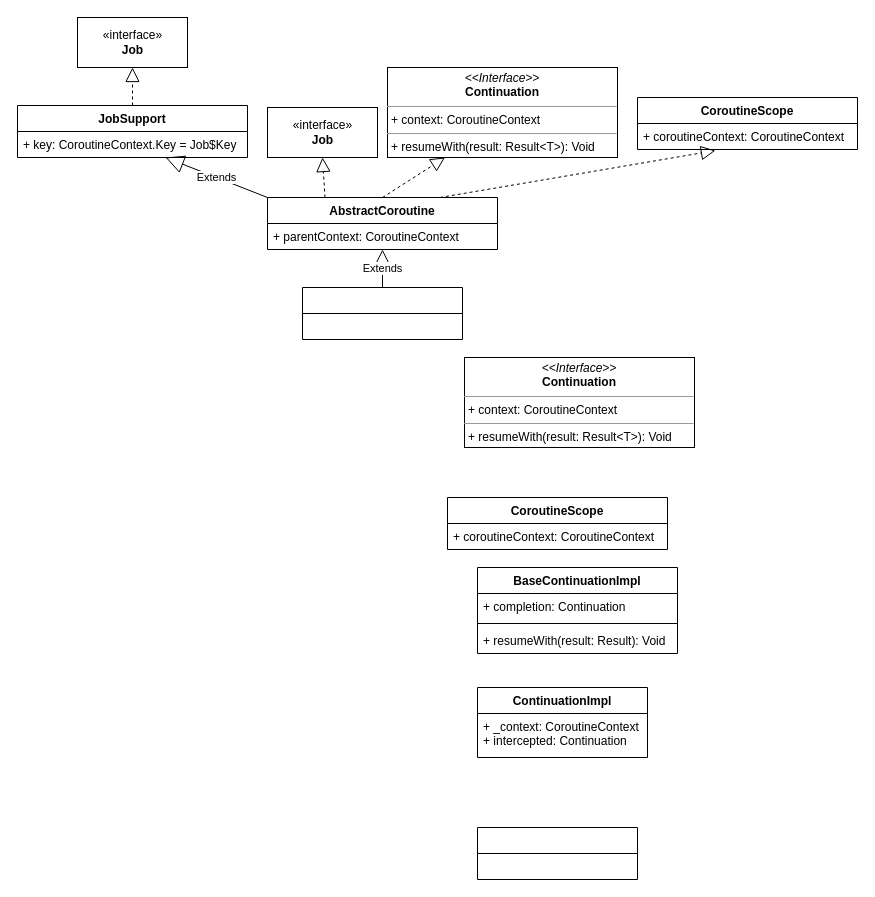
Some shapes in this 875 by 897 pixel diagram are drawn without their labels. The shapes that lost their labels are listed below. From the top down, each one's centre as x and y in pixels, then its label:
the point at 382,313: StandaloneCoroutine
the point at 557,853: SuspendLambda
